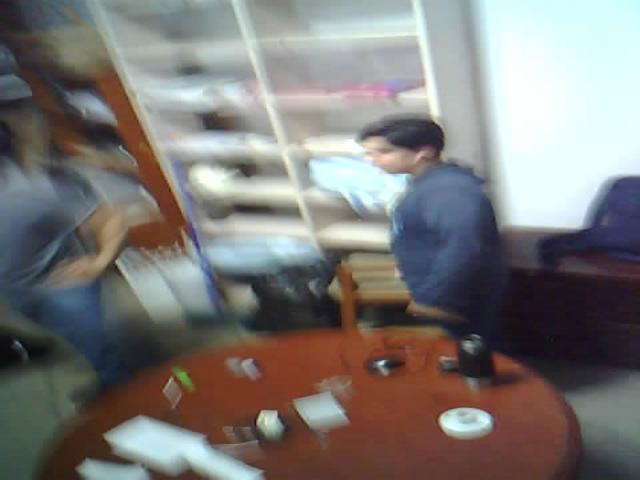person: (2, 100, 207, 444), (332, 92, 556, 374)
